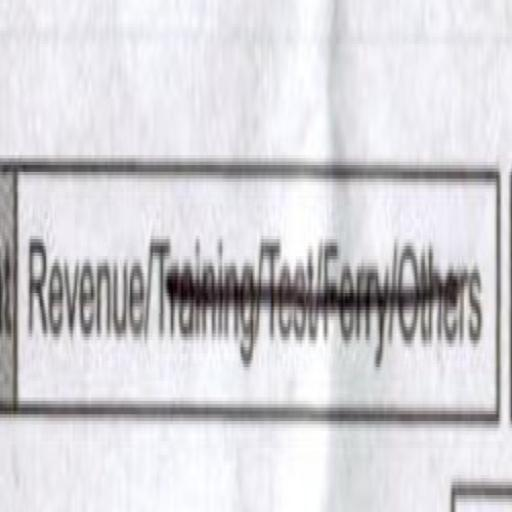check: (26, 151, 148, 512)
